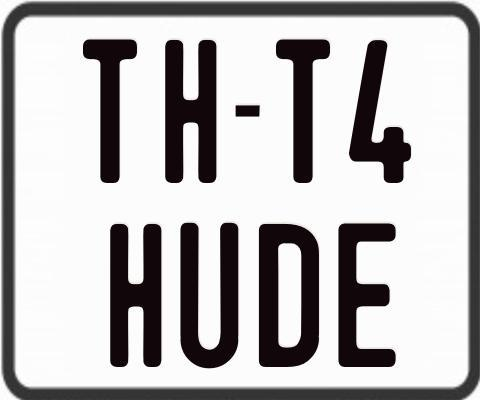4: (349, 38, 415, 184)
D: (257, 224, 320, 371)
E: (335, 220, 394, 365)
H: (163, 39, 220, 186), (107, 222, 158, 371)
T: (81, 37, 136, 185), (275, 39, 330, 184)
U: (178, 222, 239, 373)
